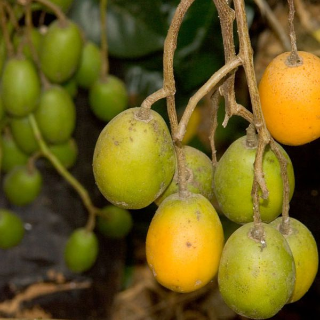coc: (94, 107, 173, 209), (218, 219, 294, 320), (146, 193, 220, 291), (41, 18, 80, 83), (3, 60, 38, 116)
